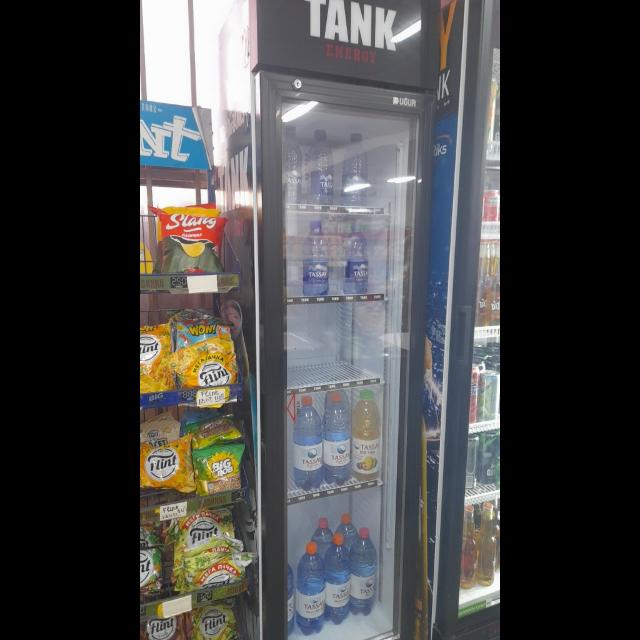Cooling-Display: (249, 1, 439, 640)
